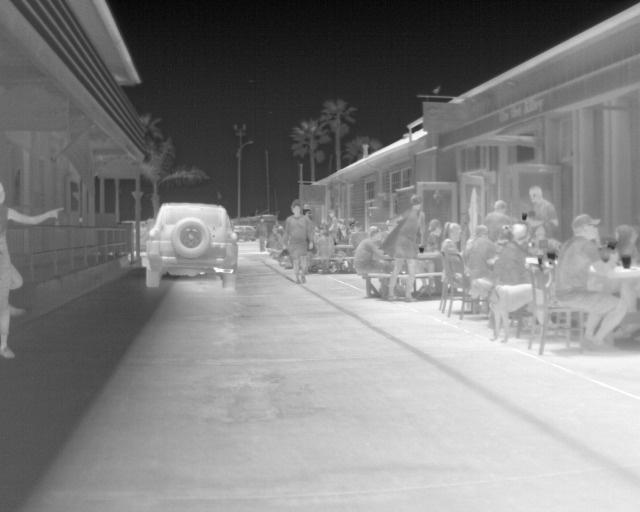bicycle: (141, 200, 236, 291), (234, 222, 253, 242)
empty: (0, 180, 64, 357), (552, 213, 626, 345), (384, 202, 426, 301), (283, 197, 313, 281), (492, 227, 524, 286), (437, 220, 463, 288), (467, 224, 497, 275), (523, 186, 559, 228), (357, 227, 387, 271), (482, 197, 511, 226), (252, 214, 270, 252), (313, 227, 336, 256), (325, 205, 343, 234)
